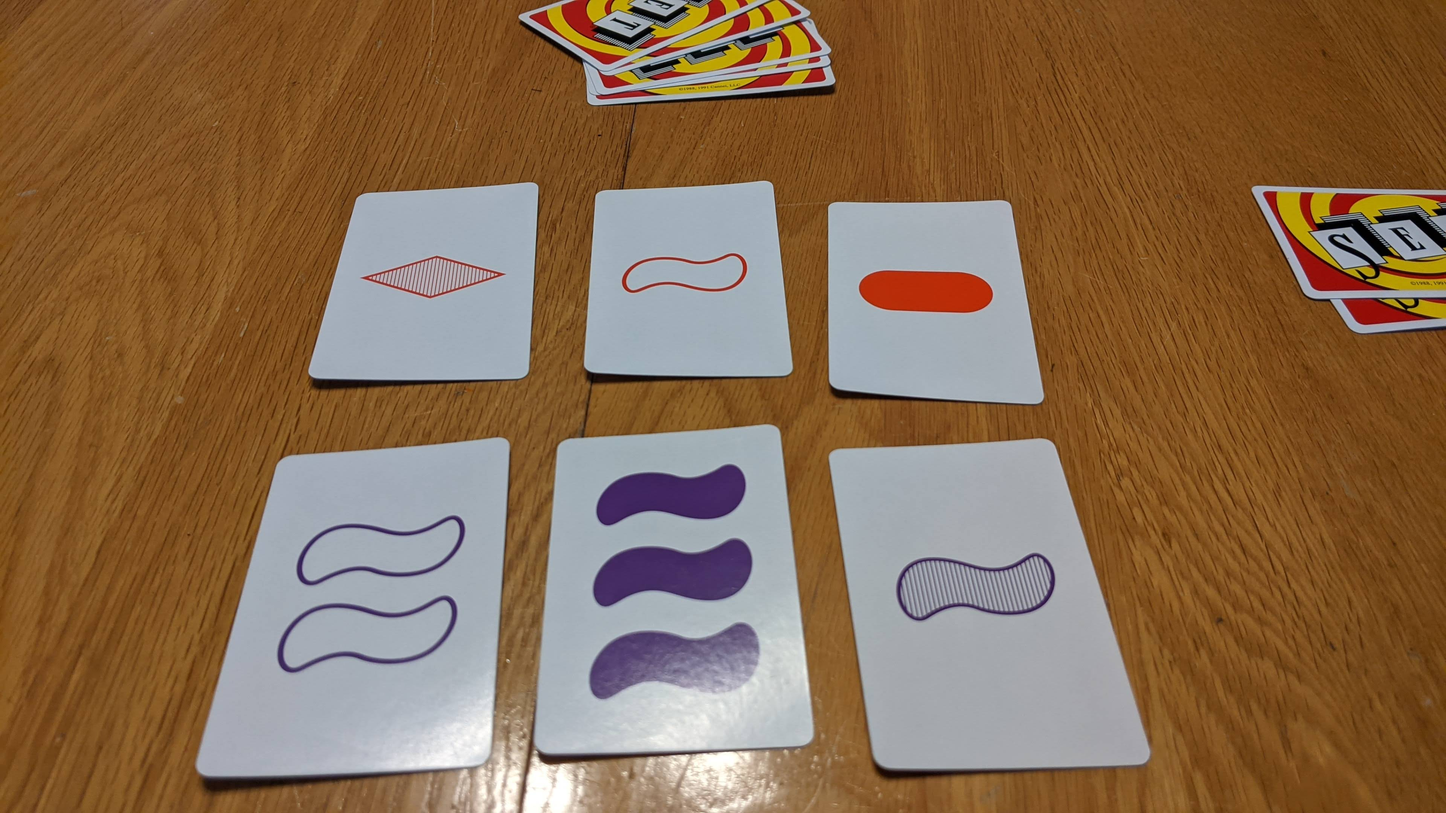card: (195, 436, 510, 778), (829, 438, 1152, 770), (534, 426, 815, 754), (308, 183, 539, 381), (826, 199, 1046, 406), (581, 181, 794, 377)
